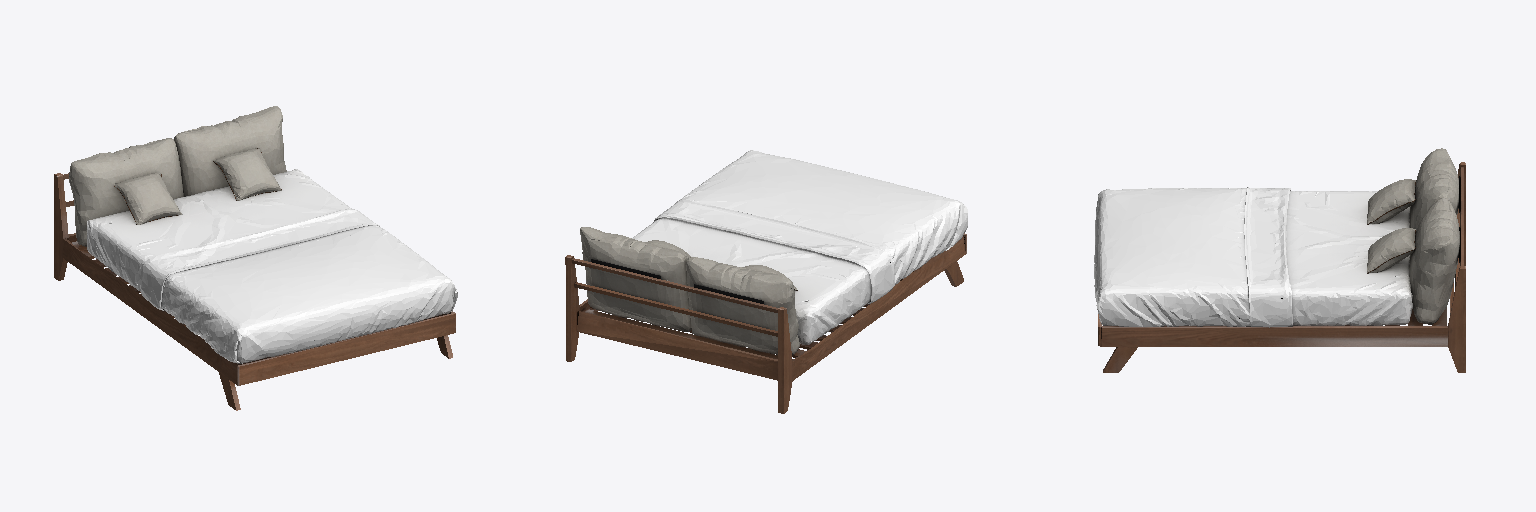
3 renders of one model, left to right at view 1: azimuth 30°, elevation 25°; view 2: azimuth 150°, elevation 25°; view 3: azimuth 270°, elevation 25°, orthographic.
Parts seen in each view (by area): view 1: solid_002, solid_003, solid_006; view 2: solid_002, solid_003, solid_006; view 3: solid_002, solid_006, solid_003.
Boxes of the visible parts, x1,y1,x2,y2 form: solid_002: [87, 169, 457, 363]; solid_003: [69, 106, 286, 246]; solid_006: [54, 173, 455, 410]; solid_002: [632, 150, 967, 344]; solid_003: [580, 227, 799, 355]; solid_006: [565, 233, 966, 413]; solid_002: [1094, 187, 1412, 327]; solid_006: [1098, 162, 1465, 372]; solid_003: [1367, 148, 1459, 324].
Size of the model in its own units: 1.4 by 0.7567 by 2.
1 materials, 1 textured.